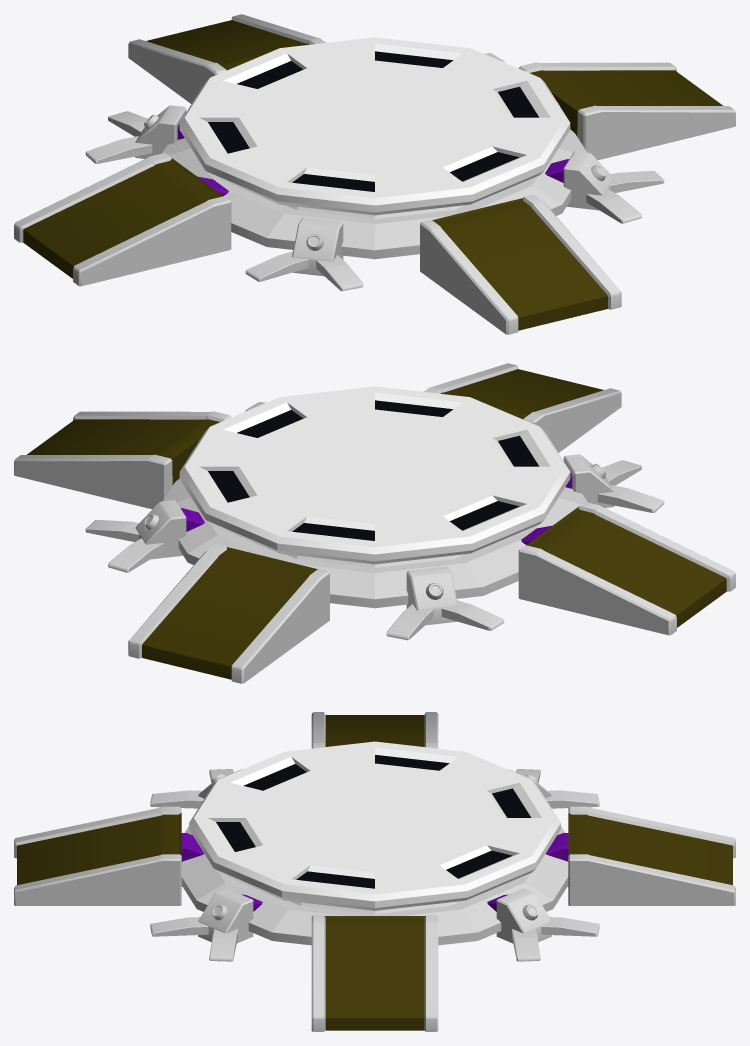
The model's file is OBJ_Jumpad_var2.fbx.
The picture shows the model from 3 angles, top to bottom: view 1: azimuth 30°, elevation 25°; view 2: azimuth 150°, elevation 25°; view 3: azimuth 270°, elevation 25°; orthographic projection. The views are drawn at different scales.
Visible parts, largest first — view 1: Cylinder015, Jumpad_Zone; view 2: Cylinder015, Jumpad_Zone; view 3: Cylinder015, Jumpad_Zone.
Boxes of the visible parts, x1=… form: Cylinder015: x1=14, y1=14, x2=735, y2=334; Jumpad_Zone: x1=179, y1=37, x2=570, y2=215; Cylinder015: x1=14, y1=363, x2=735, y2=683; Jumpad_Zone: x1=179, y1=386, x2=570, y2=564; Cylinder015: x1=14, y1=712, x2=735, y2=1031; Jumpad_Zone: x1=189, y1=741, x2=560, y2=910.
Bounding box in the file's own units: 1403 × 131 × 1403.
